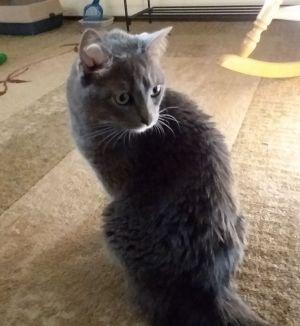rblue: (72, 20, 181, 143)
